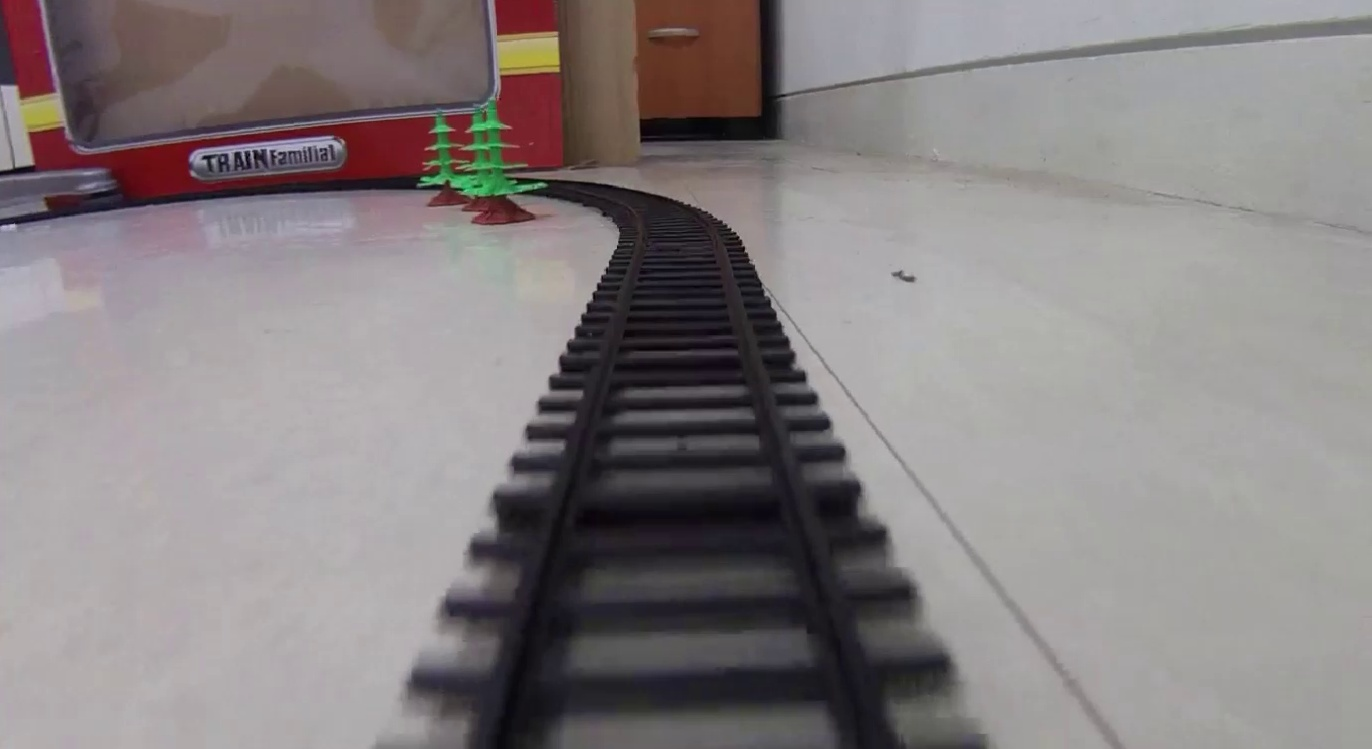tree: (468, 102, 539, 224), (420, 110, 470, 203)
